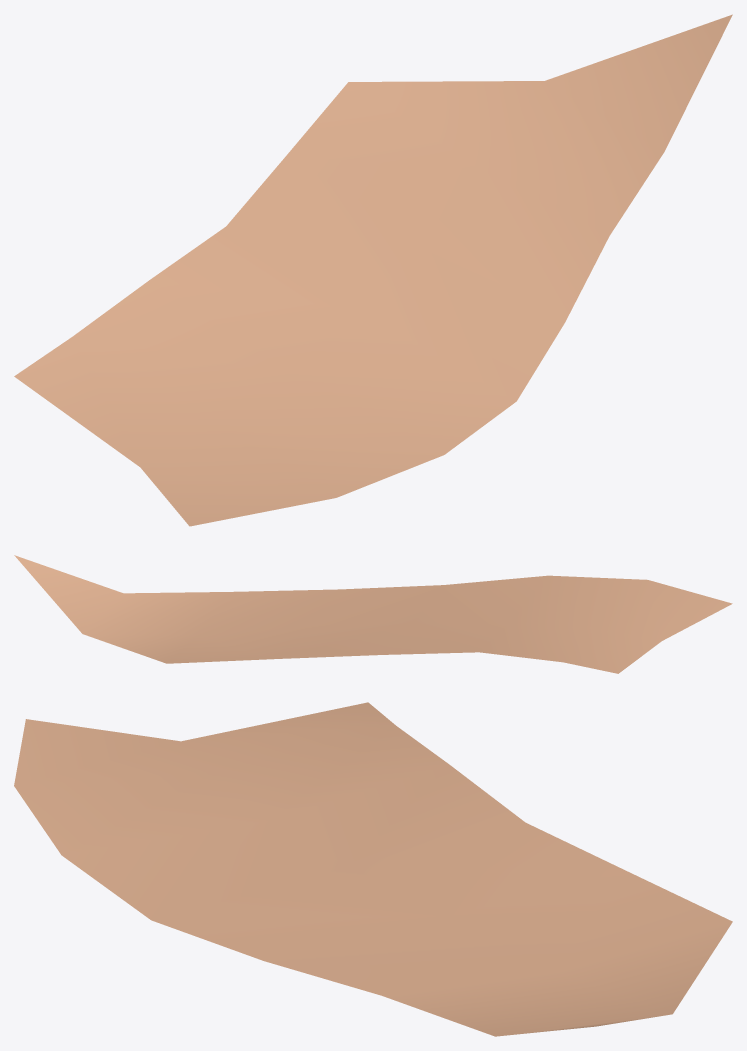
The model's file is distal-transverse-arch-of-foot-l.glb.
3 renders of one model, top to bottom at view 1: azimuth 30°, elevation 25°; view 2: azimuth 150°, elevation 25°; view 3: azimuth 270°, elevation 25°, orthographic. The views are drawn at different scales.
Parts seen in each view (by area): view 1: Distal transverse arch of foot.l; view 2: Distal transverse arch of foot.l; view 3: Distal transverse arch of foot.l.
Part boxes in pixels (x1,y1,x2,y2): Distal transverse arch of foot.l: [14, 14, 732, 526]; Distal transverse arch of foot.l: [14, 555, 732, 673]; Distal transverse arch of foot.l: [14, 702, 732, 1036].
Size of the model in its own units: 0.0586 by 0.00719 by 0.0452.
